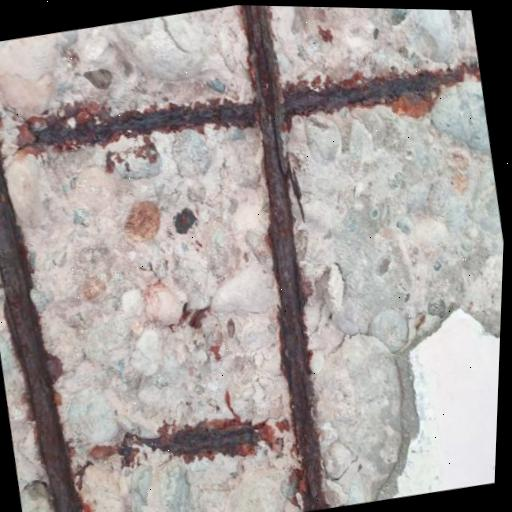exposed_rebar: (35, 5, 477, 509), (0, 155, 81, 512), (145, 420, 262, 459)
spalling: (0, 5, 503, 512)
